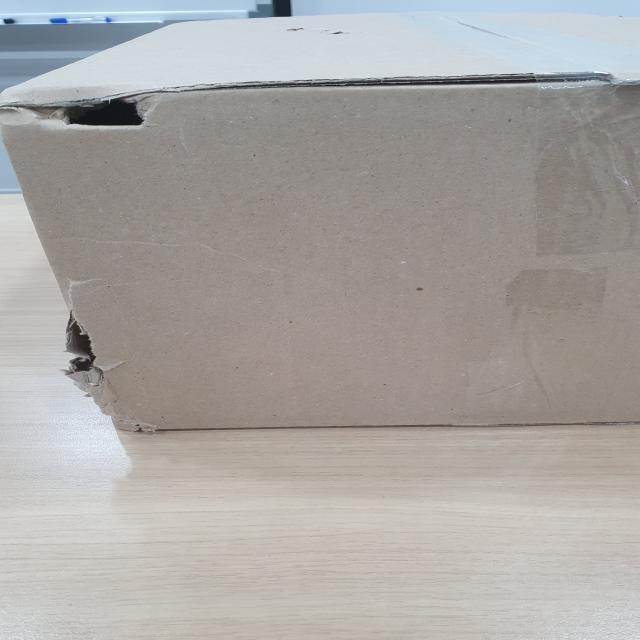hole: (10, 86, 175, 145), (55, 313, 135, 387)
